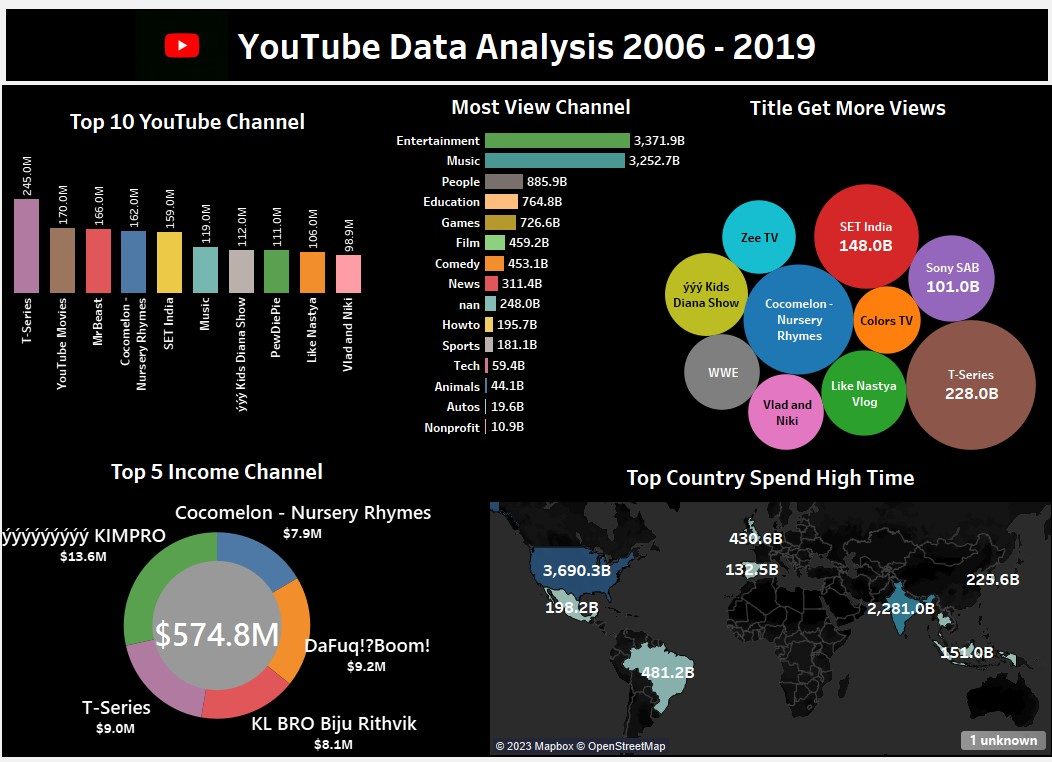

What the dashboard file says about the page in this screenshot:
{"tool":"tableau","page":{"name":"Dashboard 1","canvas":[1066,768],"ordinal":0},"visuals":[{"type":"text","box":[8,8,1050,80]},{"type":"image","param":"C:/Users/0408r/OneDrive/Desktop/yy2.jpg","box":[140,13,96,70]},{"type":"worksheet","title":"Channel Type Viewd","mark":"Bar","rows":["channel_type"],"cols":["video views"],"box":[388,88,318,355]},{"type":"worksheet","title":"Title ged more views","mark":"Circle","box":[667,89,389,420]},{"type":"worksheet","title":"Top 10 world Youtube Channel","mark":"Bar","rows":["subscribers"],"cols":["Youtuber"],"box":[15,105,357,311]},{"type":"worksheet","title":"Top 5 Income Channel","mark":"Pie","cols":["Calculation_757730702206980098","Calculation_757730702206980098"],"box":[8,455,430,303]},{"type":"worksheet","title":" Top Country Spend More Time on YouTube","mark":"Multipolygon","box":[496,461,561,297]}]}

Visuals, with their boxes in screenshot pixels (x1, y1, x2, y2), scaled from the page's 1066x768 canvas onto the 1052x762 screenshot:
text: rect(8, 8, 1044, 87)
image: rect(138, 13, 233, 82)
"Channel Type Viewd" worksheet (Bar marks): rect(383, 87, 697, 440)
"Title ged more views" worksheet (Circle marks): rect(658, 88, 1042, 505)
"Top 10 world Youtube Channel" worksheet (Bar marks): rect(15, 104, 367, 413)
"Top 5 Income Channel" worksheet (Pie marks): rect(8, 451, 432, 752)
" Top Country Spend More Time on YouTube" worksheet (Multipolygon marks): rect(489, 457, 1043, 752)
